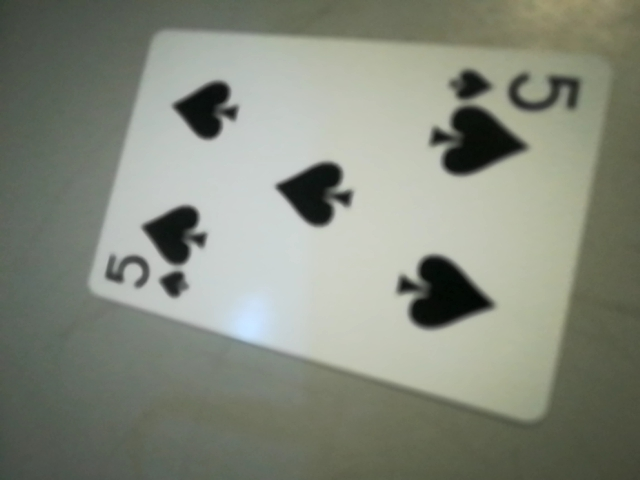ht 5: (428, 62, 597, 131)
